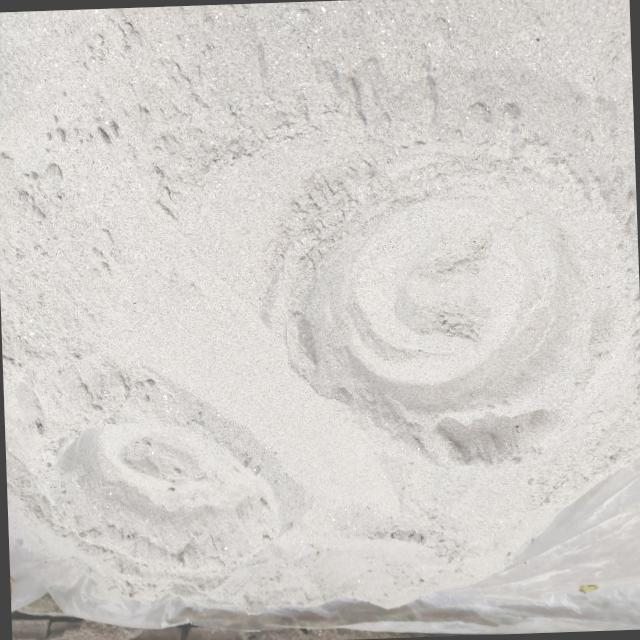C20: (284, 158, 604, 464), (56, 421, 279, 566)
